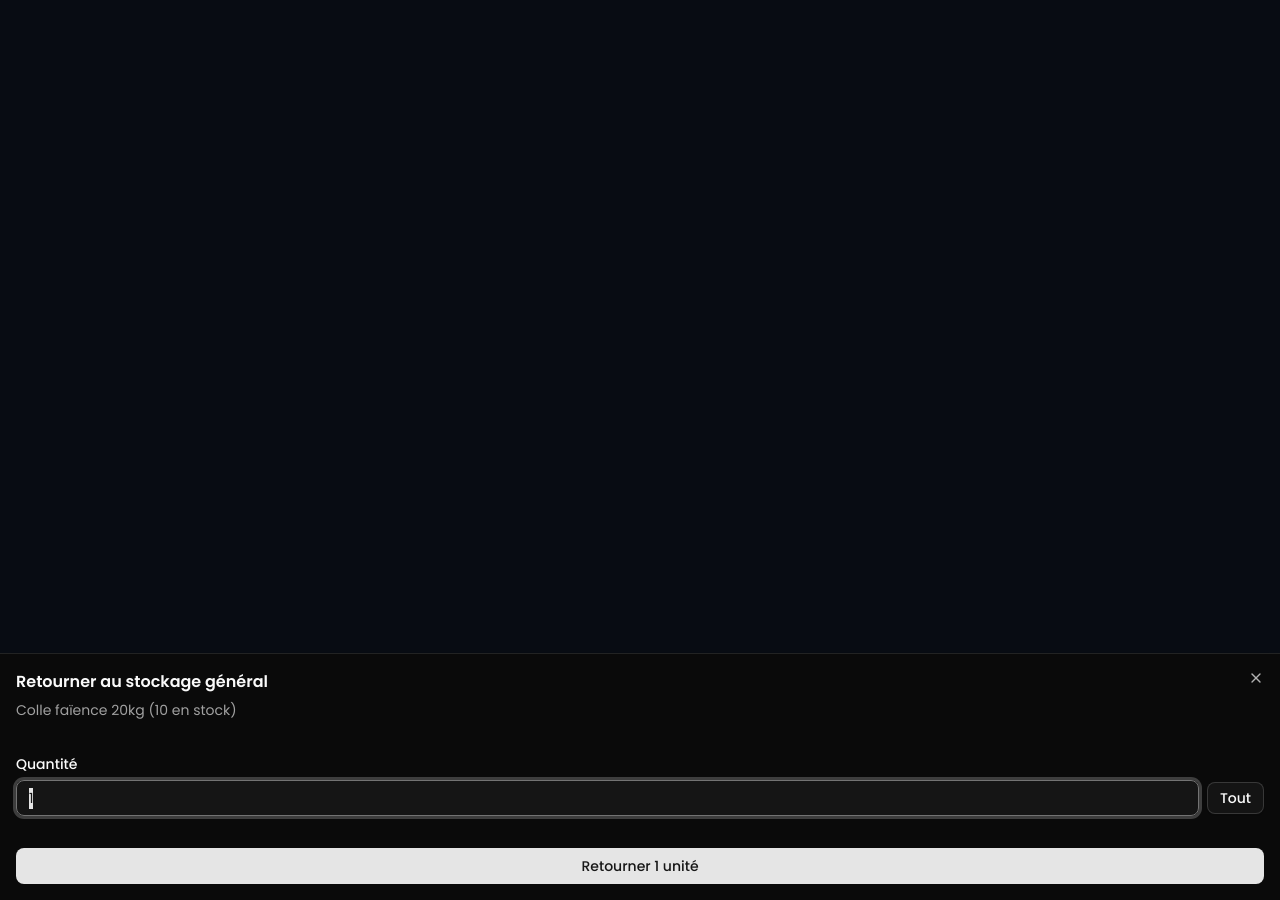
TransferSheet › shows error when quantity exceeds stock
Replace the text in the field labelled "Quantité" with "15" at (607, 798), box [16,780,1199,816]
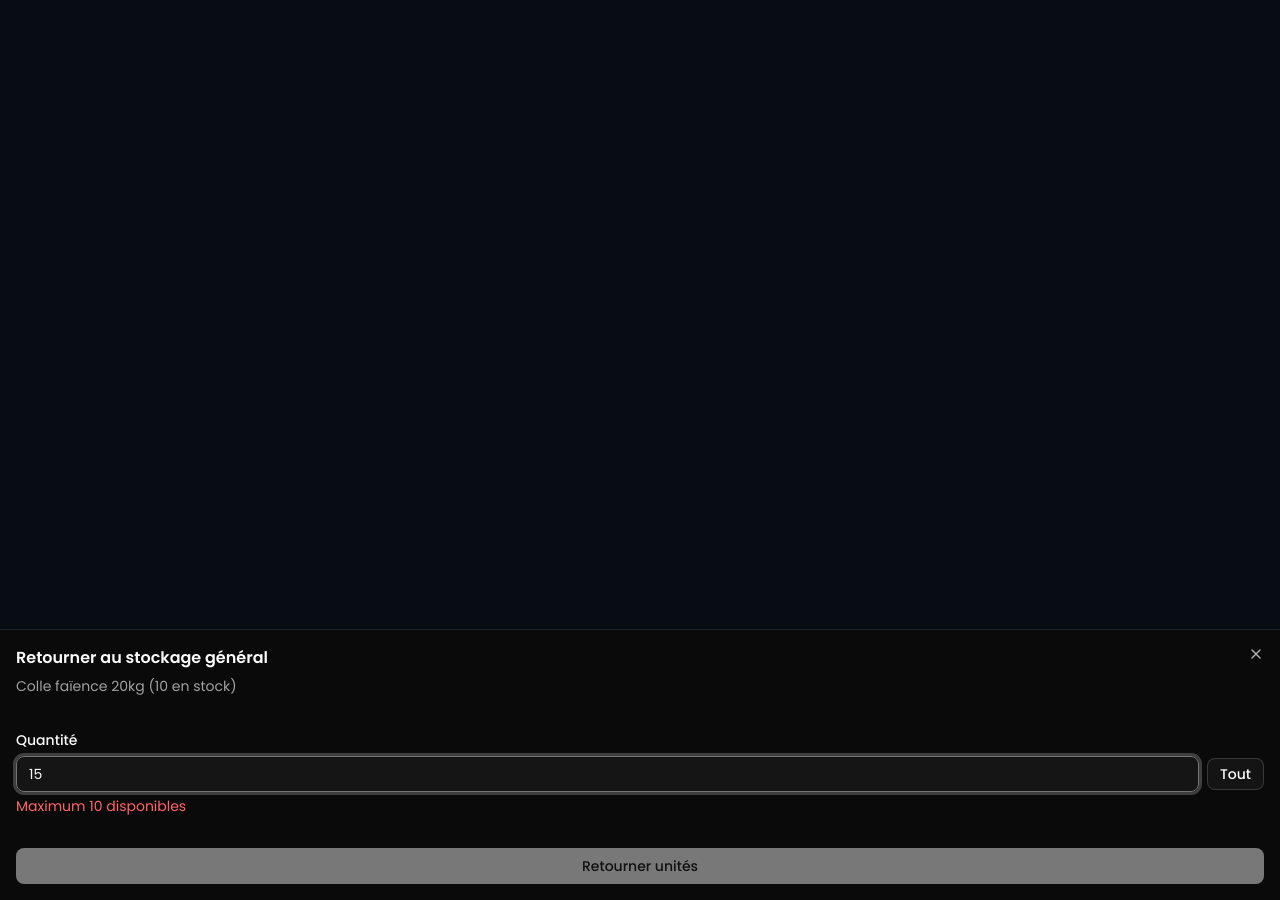
Expected: the text "Maximum 10 disponibles" is shown, [16,796,186,816]
